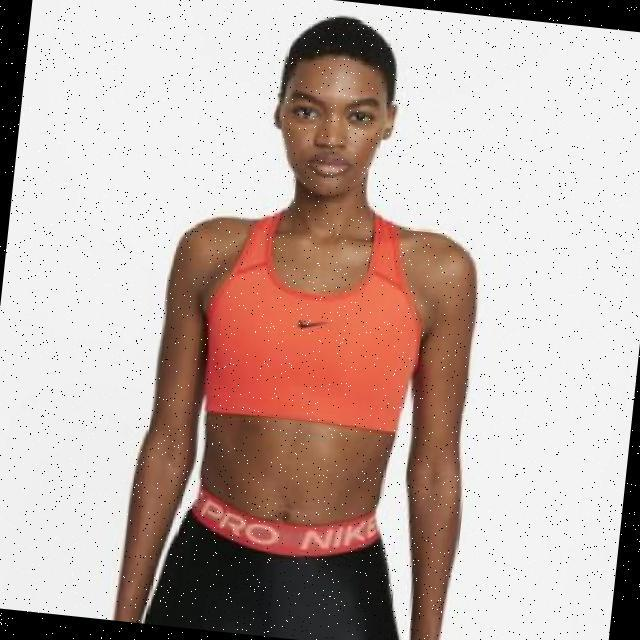Nike: (298, 313, 328, 329)
